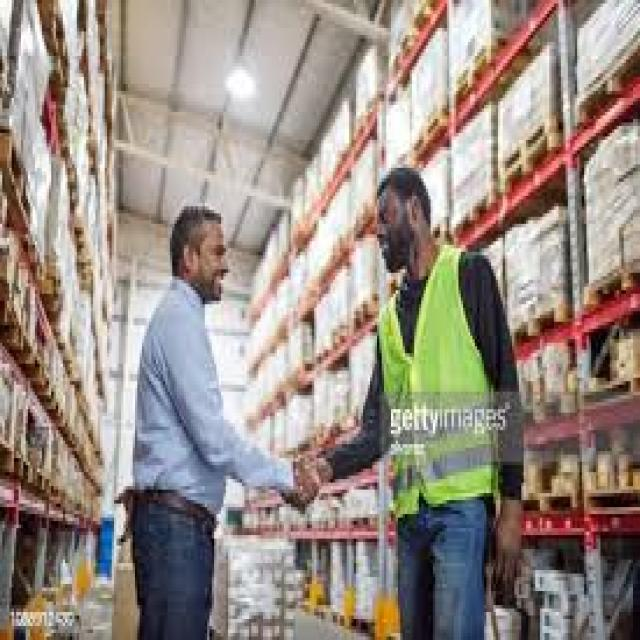Reflective-Jacket: (361, 245, 512, 535)
